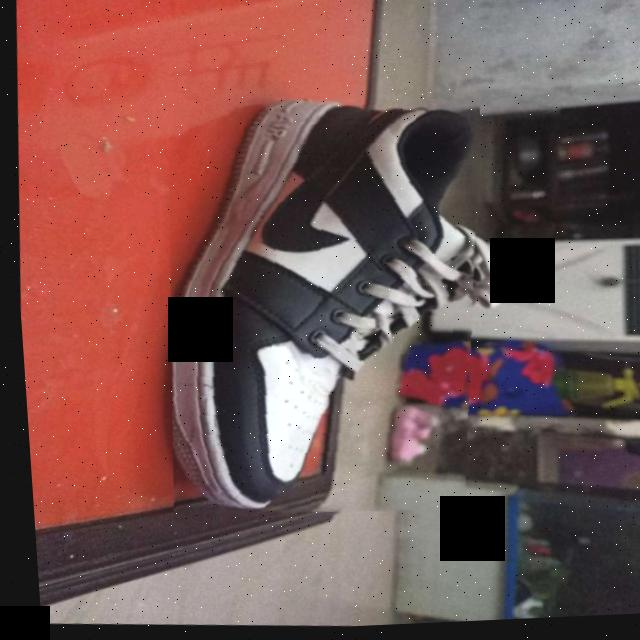shoe: (145, 88, 501, 533)
